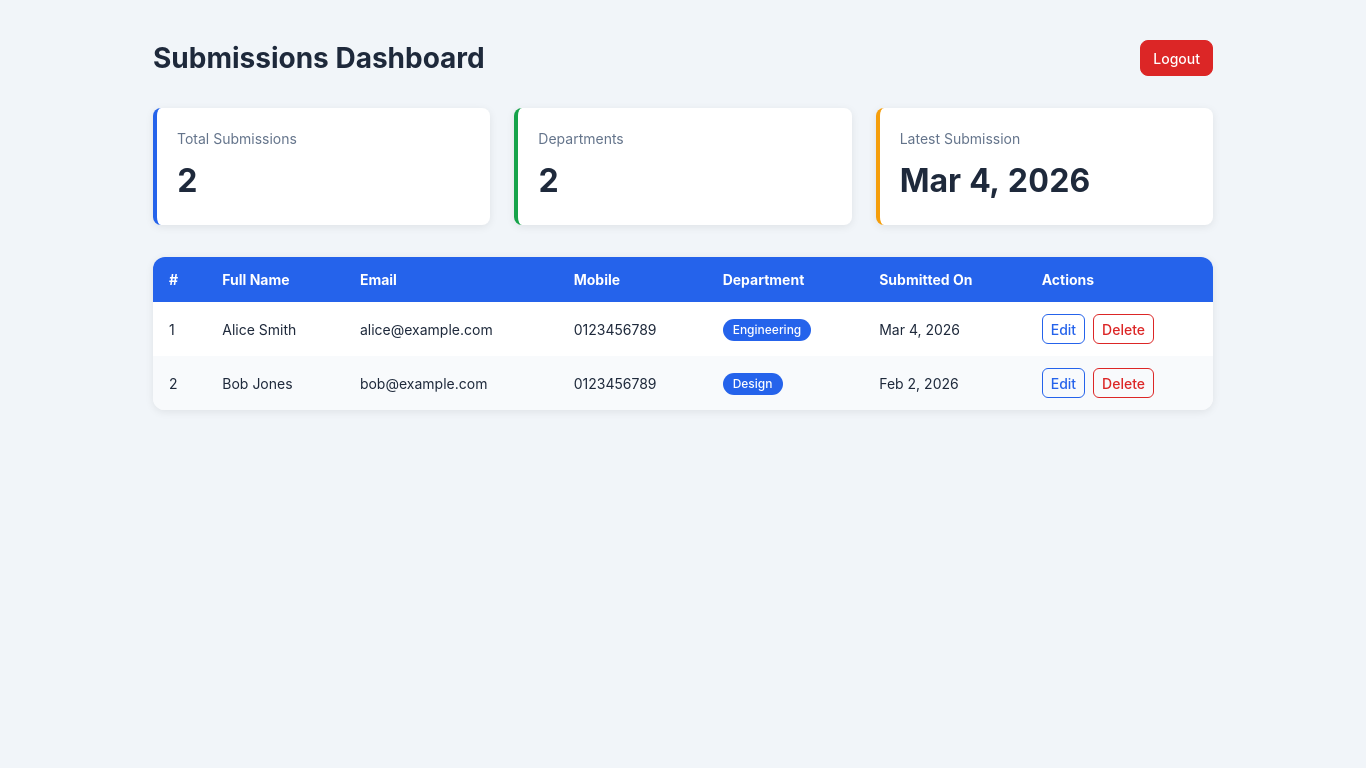
Dashboard › prefills the editor and saves permitted changes then requeries table and summaries
Click the button with aria-label "Edit submission for Alice Smith, alice@example.com" at (1063, 329), box x1=1042 y1=314 x2=1085 y2=344
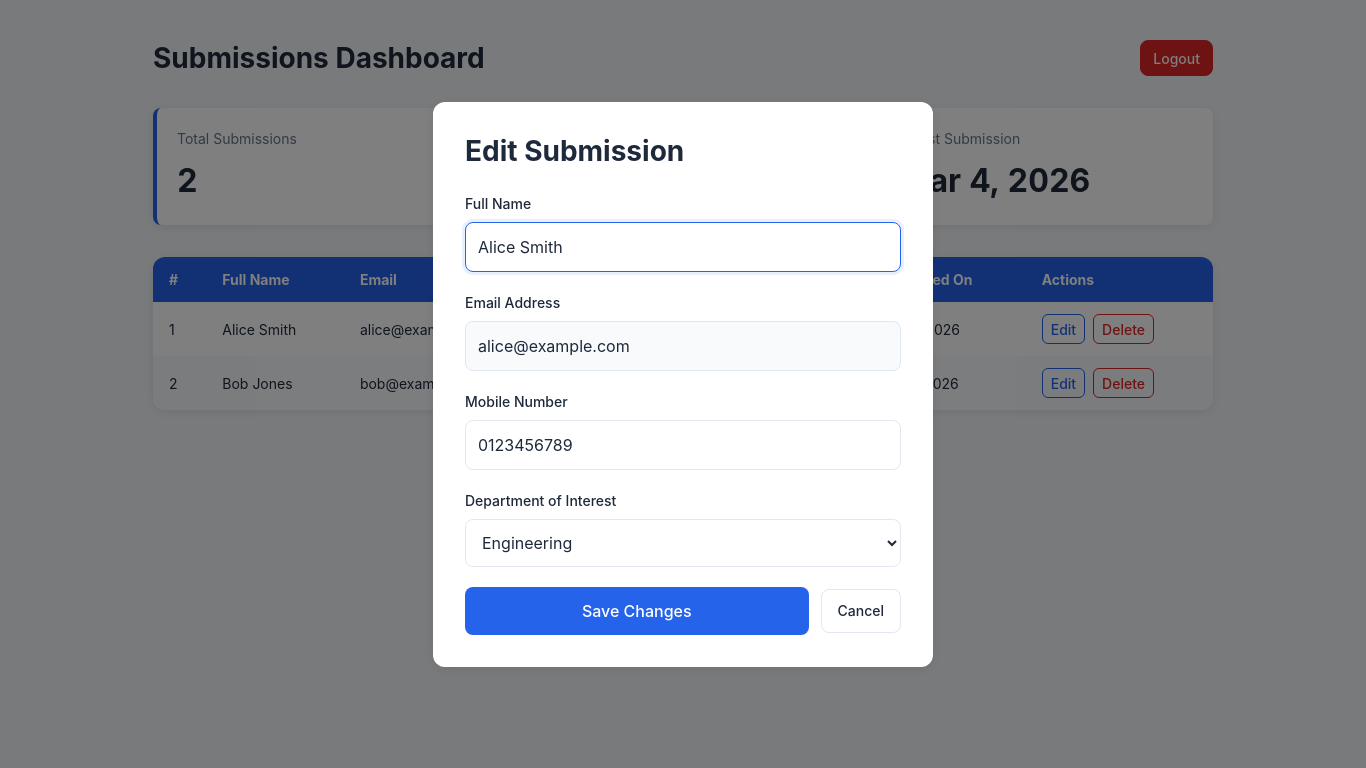
Check: the field labelled "Full Name" holds "Alice Smith"
Replace the text in the field labelled "Full Name" with " Alice Updated " at (683, 246), box x1=465 y1=222 x2=901 y2=272
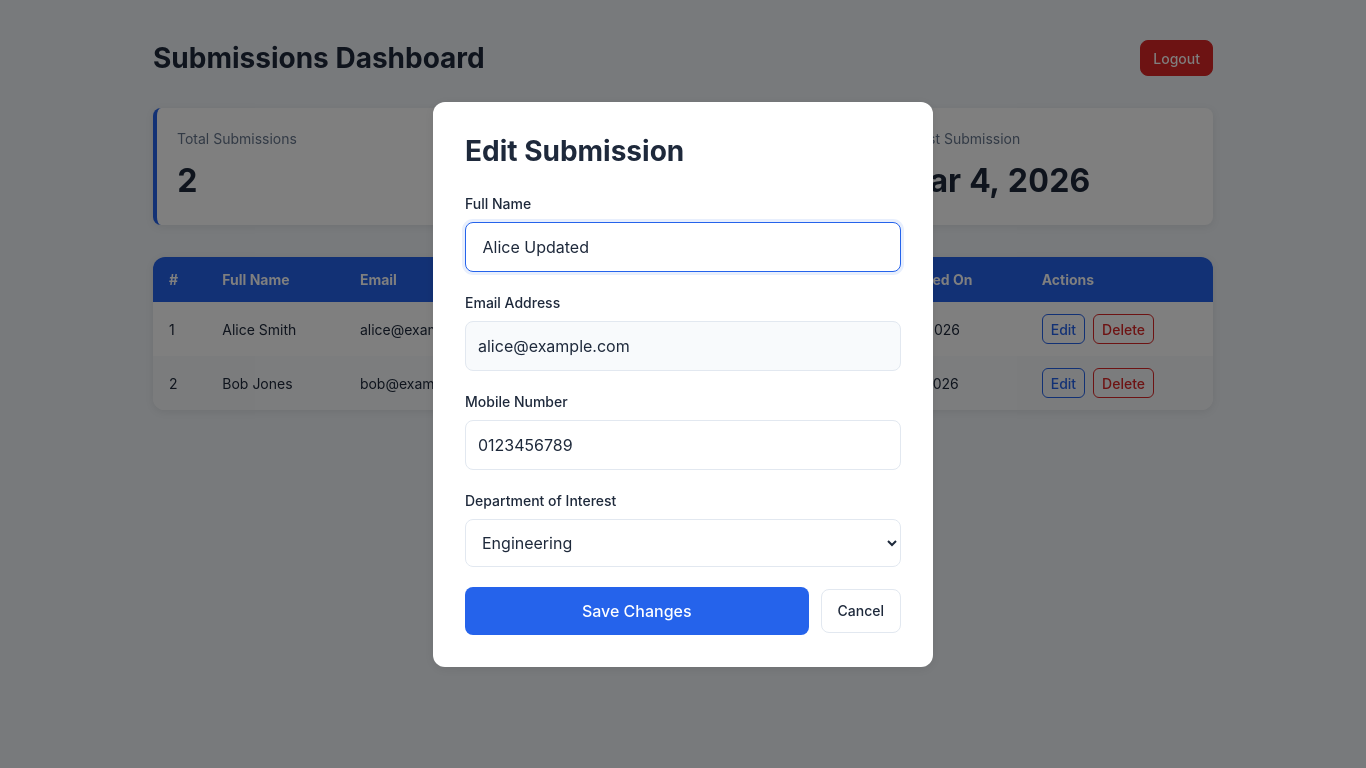
Replace the text in the field labelled "Mobile Number" with "9876543210" at (683, 444), box x1=465 y1=420 x2=901 y2=470
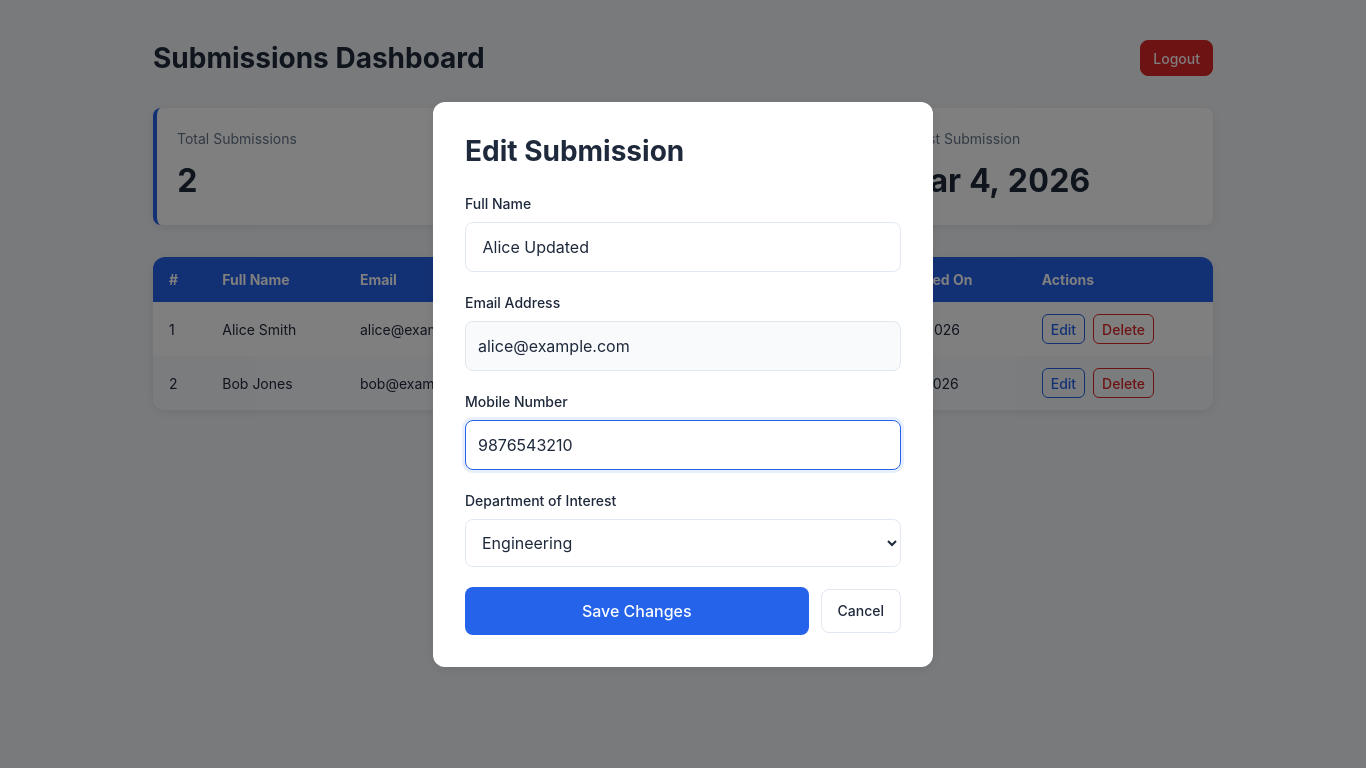
Select "Design" in the dropdown labelled "Department of Interest" at (683, 542), box x1=465 y1=518 x2=901 y2=566
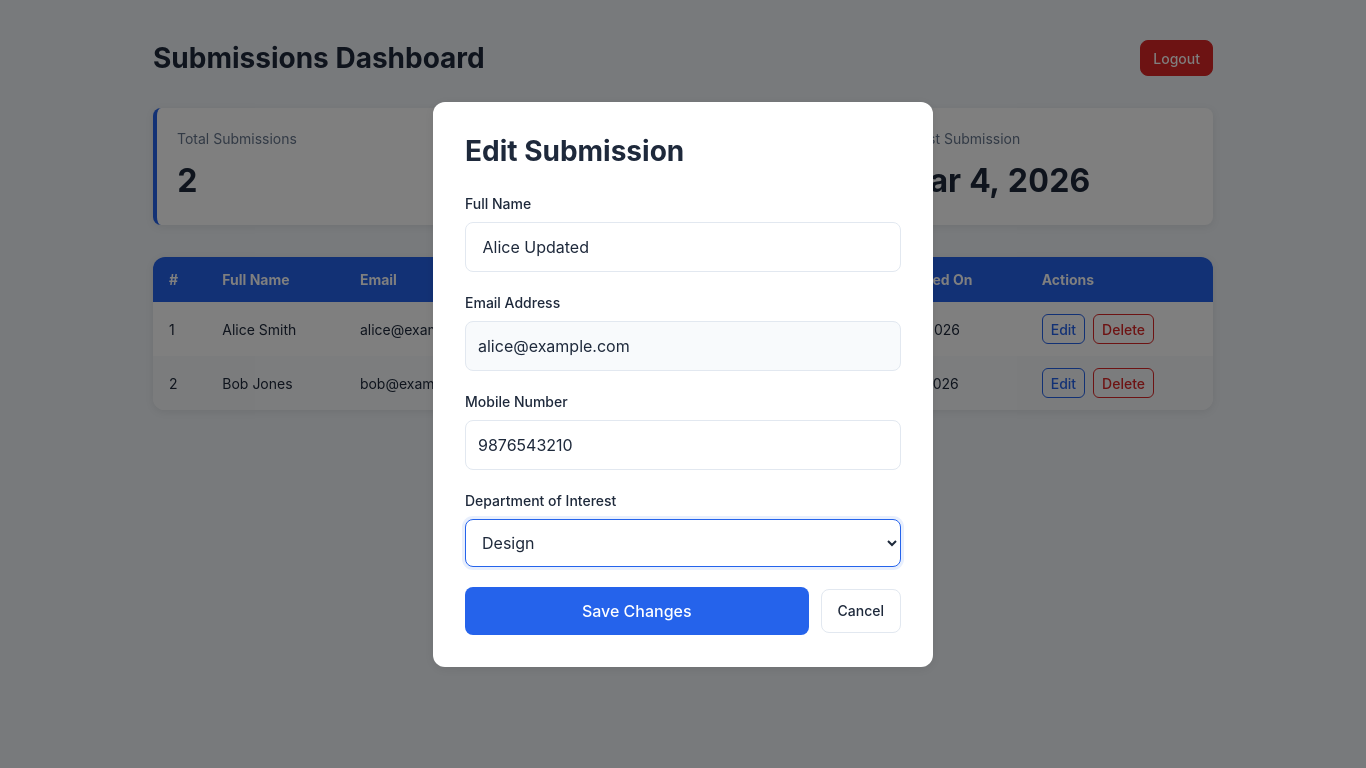
Click the button "Save Changes" at (637, 610), box x1=465 y1=586 x2=808 y2=634
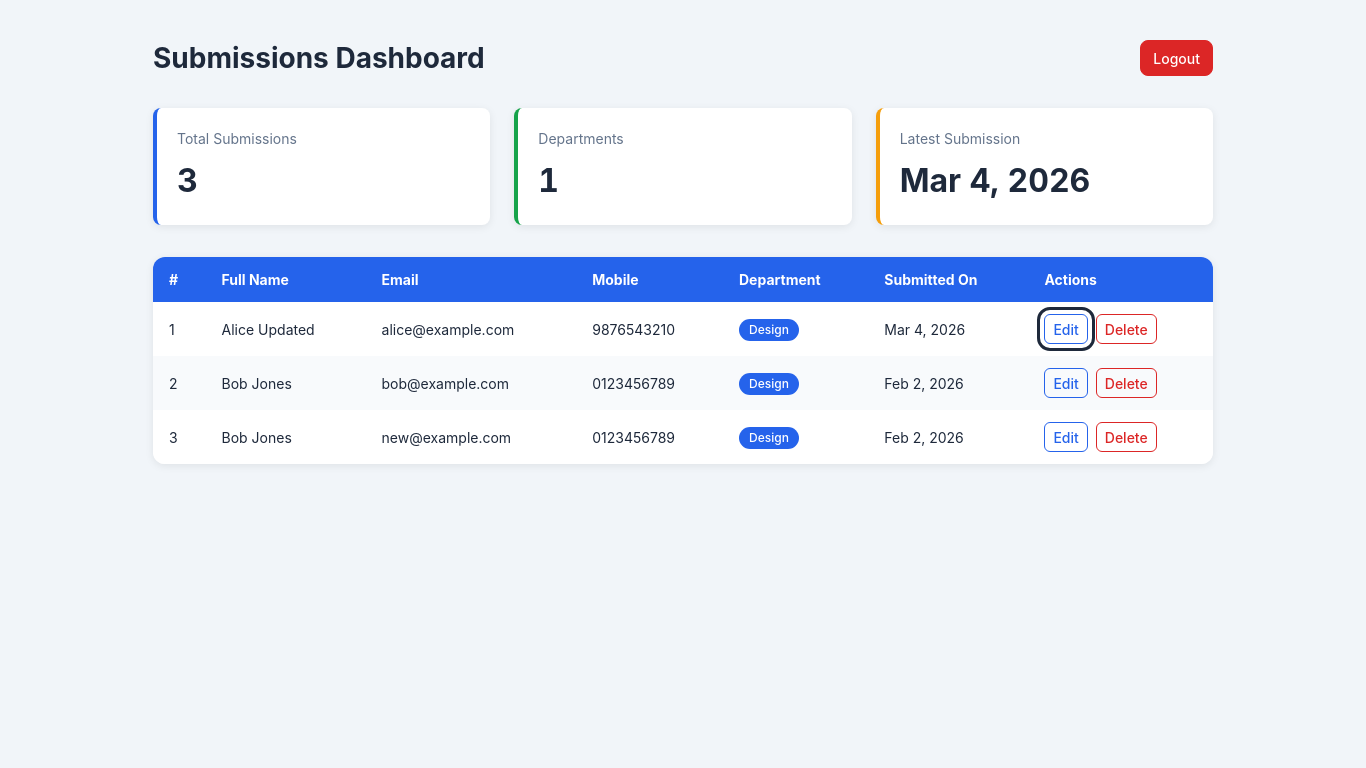
Check: the dialog is gone
Check: the text "Alice Updated" is shown, box x1=206 y1=302 x2=366 y2=356
Check: the text "9876543210" is shown, box x1=576 y1=302 x2=723 y2=356
